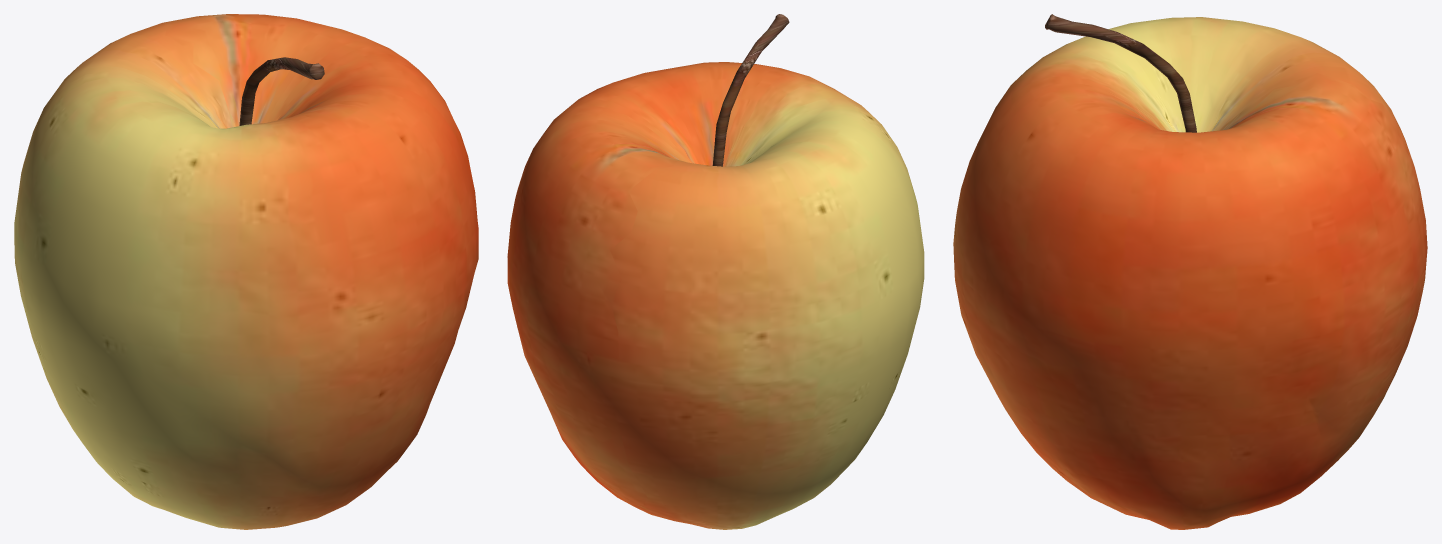
File: apple.obj
3 renders of one model, left to right at view 1: azimuth 30°, elevation 25°; view 2: azimuth 150°, elevation 25°; view 3: azimuth 270°, elevation 25°, orthographic. The views are drawn at different scales.
Parts seen in each view (by area): view 1: apple_apple_stem; view 2: apple_apple_stem; view 3: apple_apple_stem.
Part boxes in pixels (x1,y1,x2,y2): apple_apple_stem: (14,14,478,529); apple_apple_stem: (507,14,924,529); apple_apple_stem: (953,14,1427,529).
Size of the model in its own units: 65.38 by 77.62 by 68.89.
